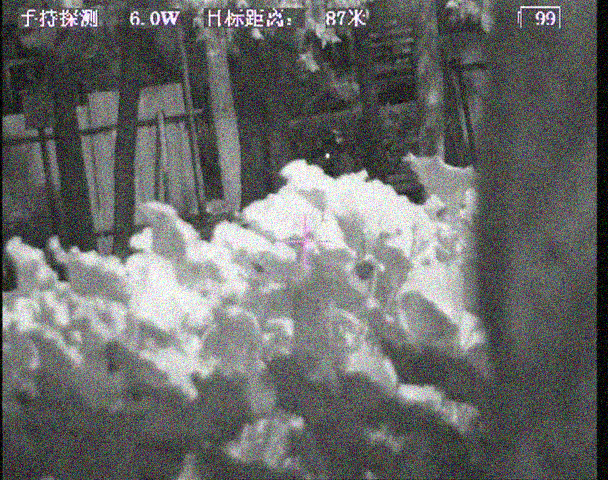my: (323, 151, 332, 159)
